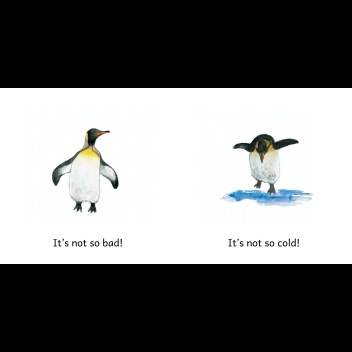latin: (225, 236, 301, 251), (51, 236, 124, 250)
